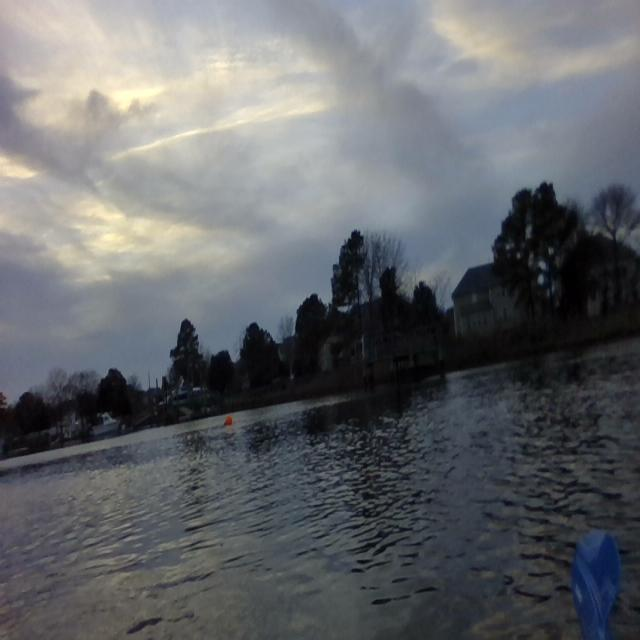Buoy: (223, 415, 234, 427)
